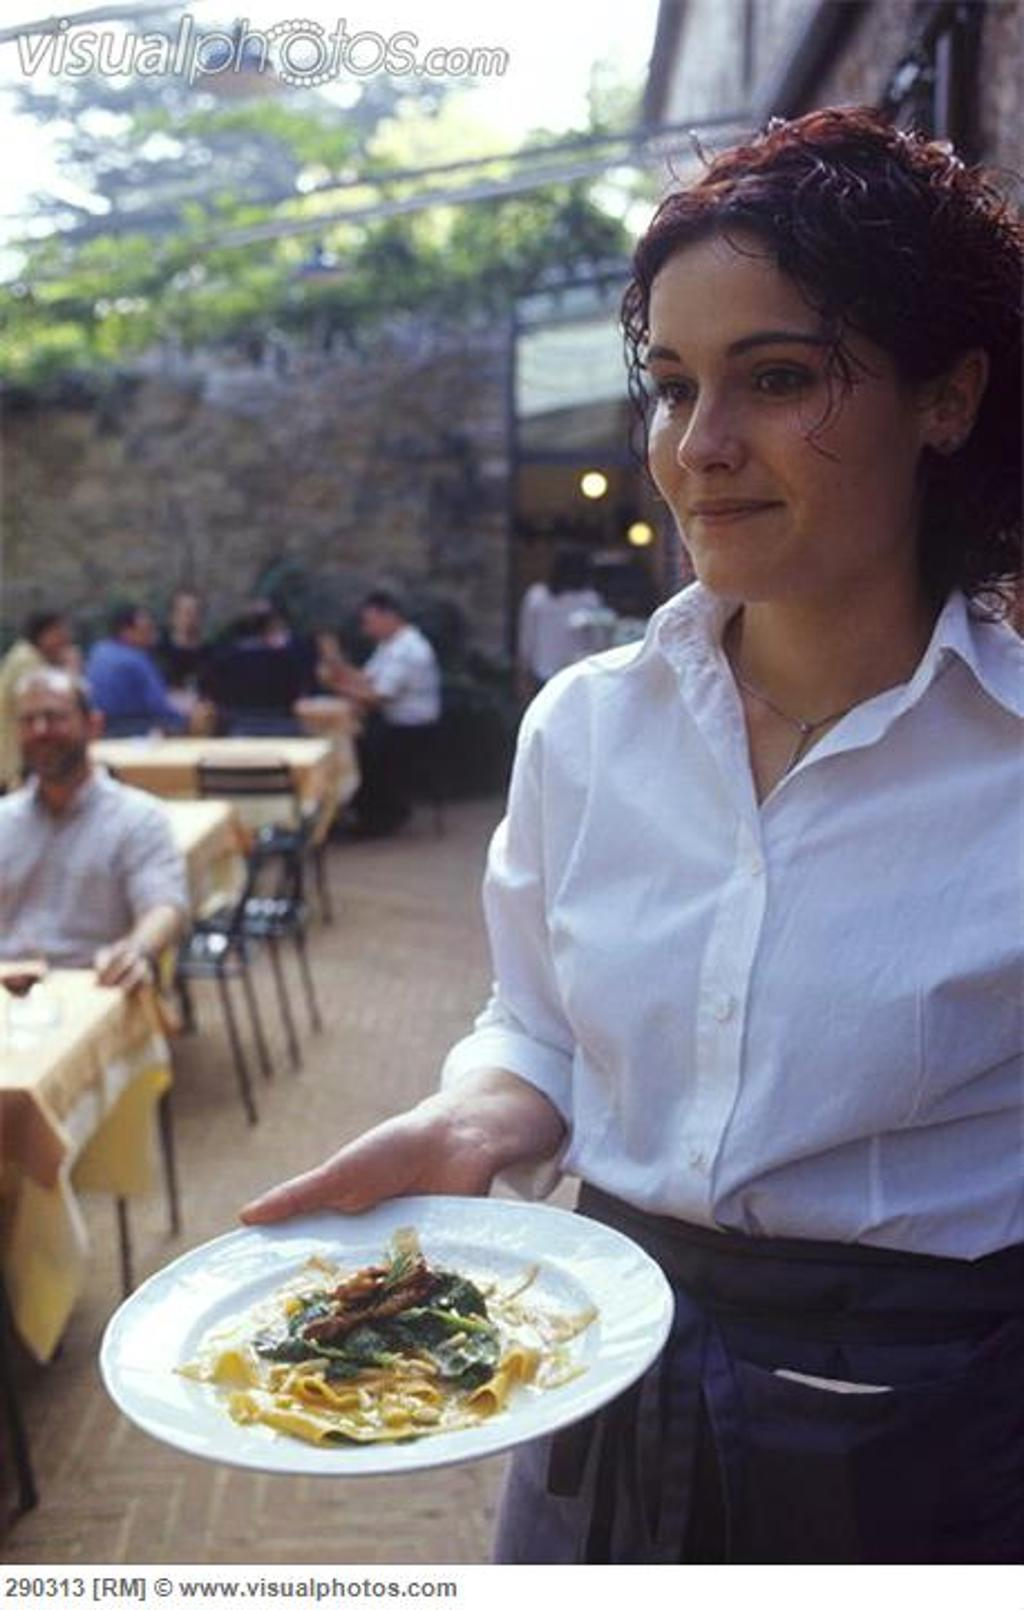face: (646, 291, 926, 601), (16, 705, 84, 778), (174, 603, 201, 639), (46, 625, 70, 656), (134, 615, 155, 648), (362, 614, 386, 641)
